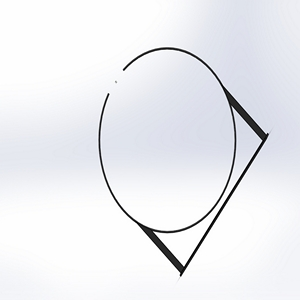circle: (96, 45, 270, 278)
